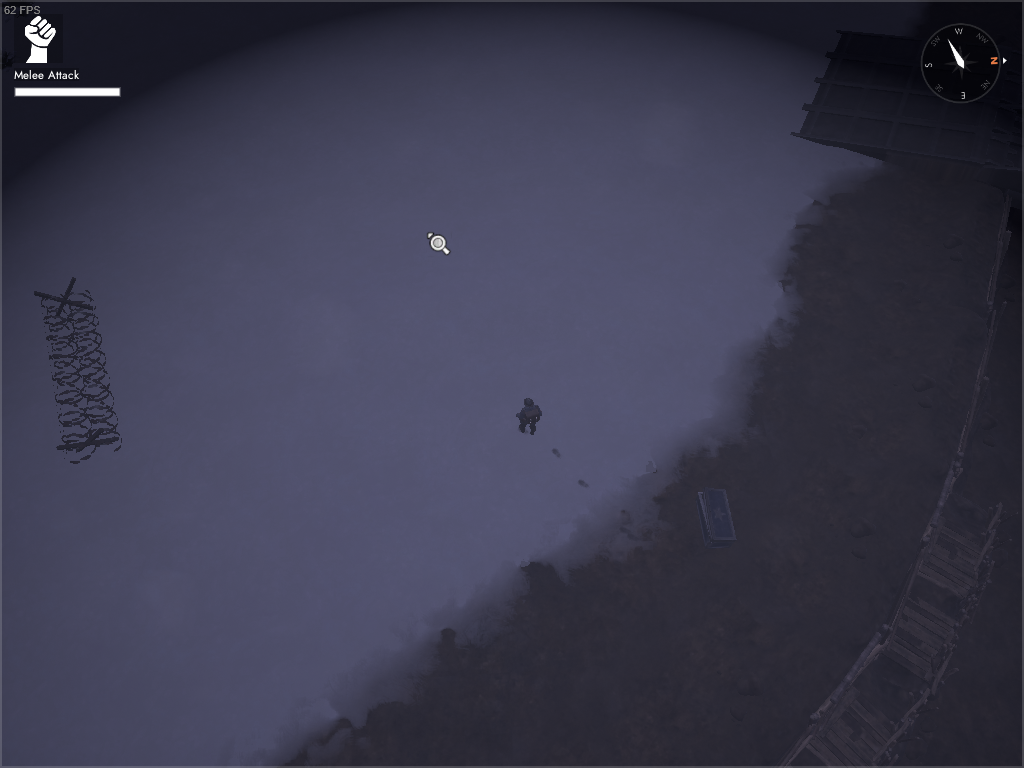player: (514, 397, 543, 435)
storage_box: (695, 486, 738, 549)
wire: (32, 274, 124, 467)
